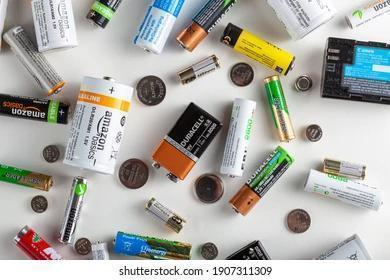9V: (152, 101, 224, 184)
AA: (227, 143, 299, 220), (0, 25, 67, 98), (218, 20, 297, 79), (301, 166, 385, 214), (219, 97, 258, 178), (111, 229, 194, 261)
COIN: (116, 157, 151, 192), (135, 73, 168, 108), (193, 172, 226, 206), (284, 207, 313, 236), (228, 60, 256, 88), (293, 73, 314, 94)
